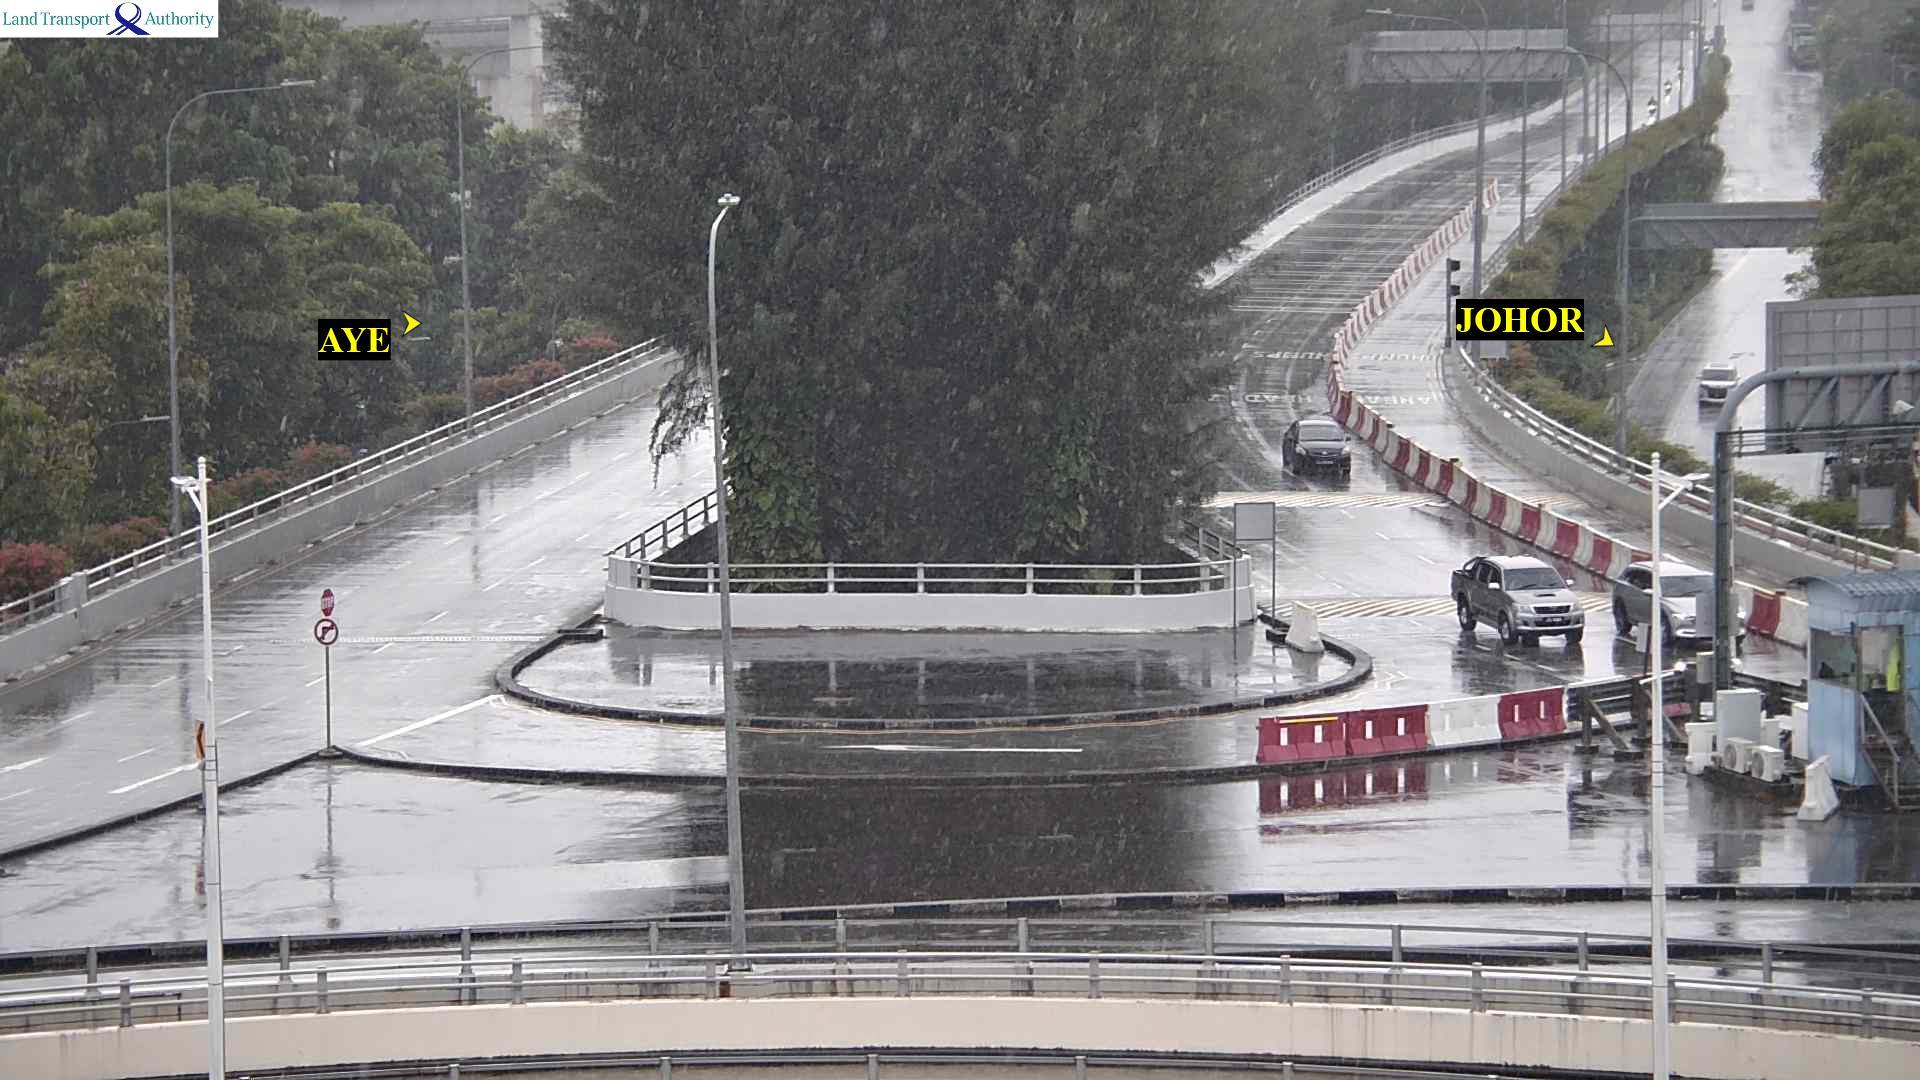vehicle-secondlink-johor: (1613, 567, 1787, 637), (1455, 559, 1592, 632), (1282, 425, 1354, 476)
